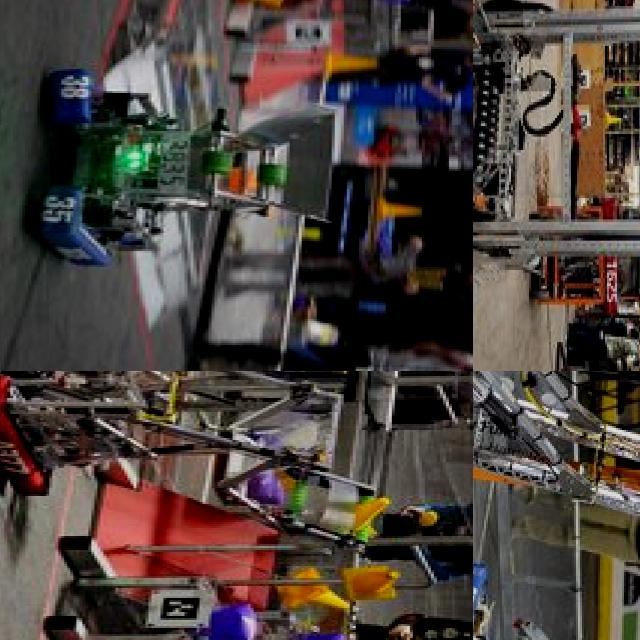FRC-Robots: (0, 371, 426, 584), (22, 55, 354, 307), (473, 0, 640, 371), (473, 371, 640, 535), (473, 576, 640, 640)
